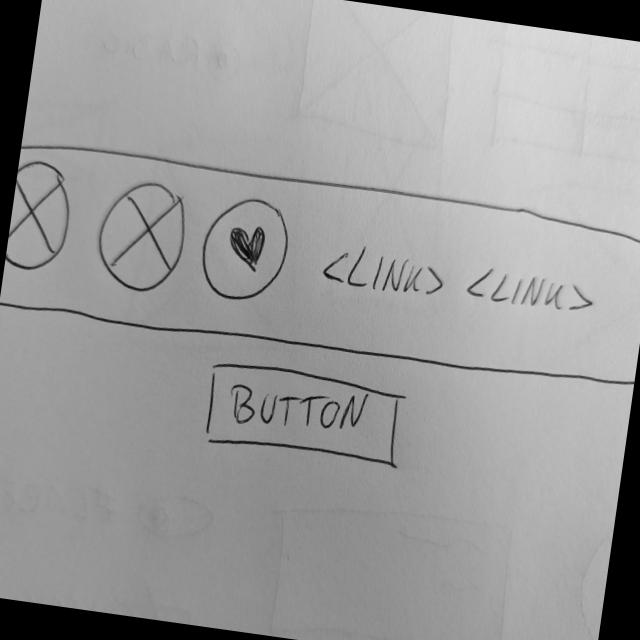button: (200, 357, 412, 477)
container: (1, 133, 640, 400)
icon-button: (193, 189, 298, 310)
image: (92, 175, 197, 302), (6, 157, 80, 276)
link: (319, 237, 451, 307), (463, 261, 603, 323)
